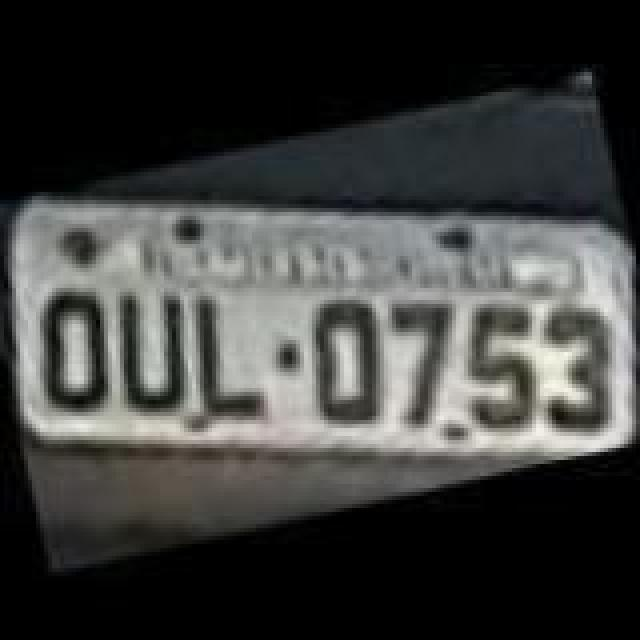3: (520, 294, 632, 442)
5: (446, 290, 554, 442)
7: (374, 286, 474, 434)
L: (170, 284, 270, 428)
O: (20, 276, 124, 420), (292, 290, 396, 434)
U: (98, 276, 206, 416)
